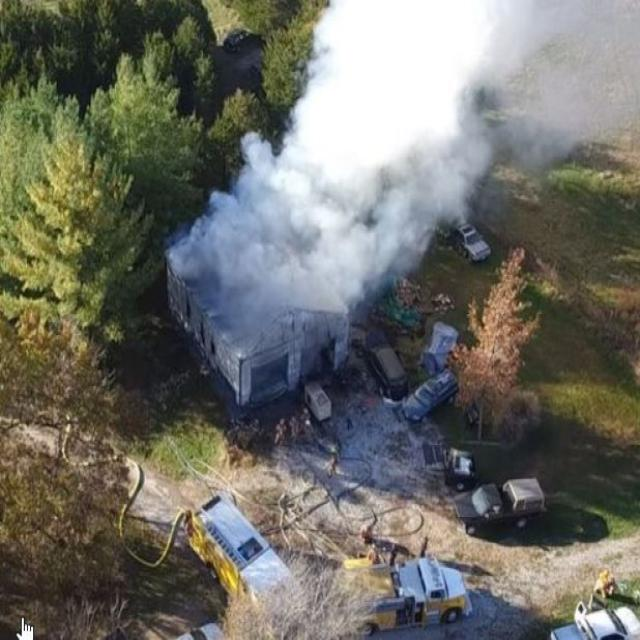Smoke: (178, 0, 538, 339)
